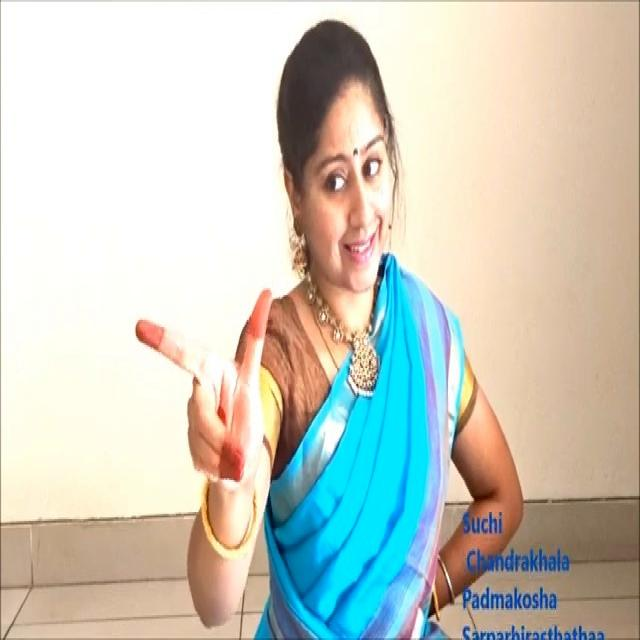Chandrakala: (116, 261, 288, 508)
lady: (272, 16, 415, 315)
text: (454, 503, 613, 640)
